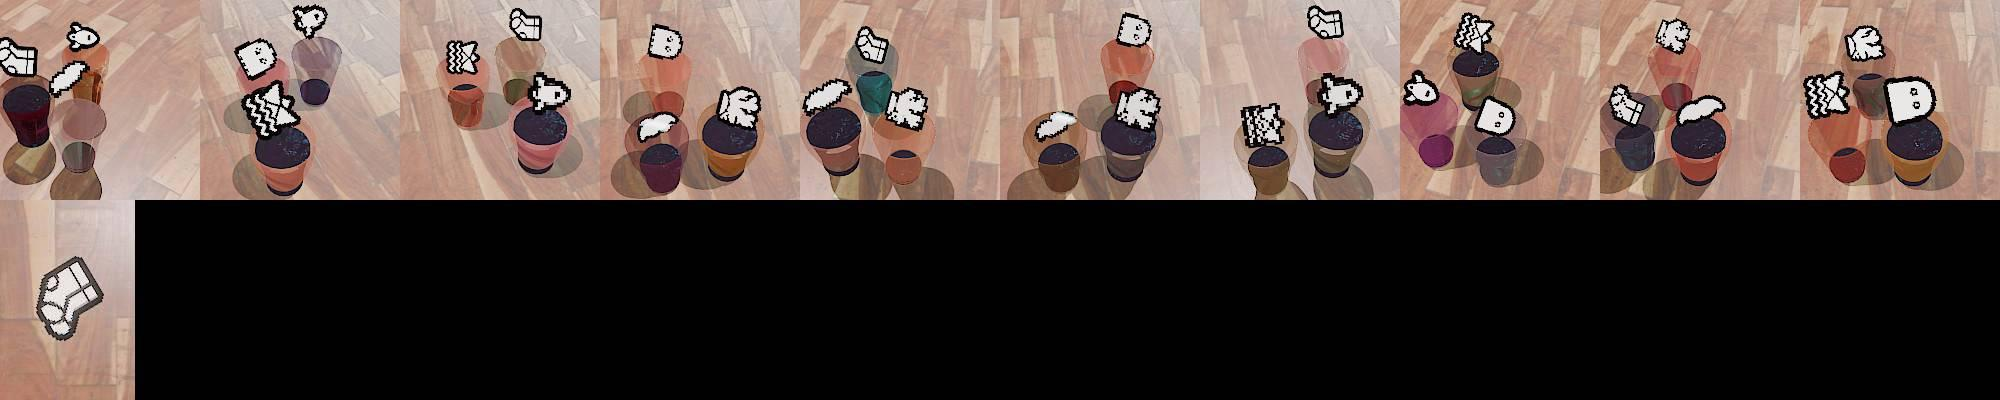icon: (34, 256, 103, 343), (242, 80, 302, 138), (1881, 75, 1937, 126), (1802, 71, 1852, 118), (883, 87, 930, 131), (1114, 85, 1162, 129), (1241, 102, 1287, 146), (716, 85, 761, 129), (1318, 73, 1365, 115), (801, 76, 851, 116), (235, 37, 278, 82), (1453, 10, 1496, 54), (527, 71, 571, 112), (1675, 94, 1728, 127), (1473, 96, 1517, 136), (1608, 83, 1648, 125), (47, 60, 89, 98), (0, 37, 38, 76), (1844, 24, 1884, 61), (1034, 108, 1077, 141), (635, 111, 679, 143), (1404, 69, 1441, 106), (1306, 4, 1344, 39), (853, 25, 889, 64), (1656, 17, 1691, 54), (292, 4, 328, 39), (445, 39, 481, 75), (1116, 11, 1152, 47), (648, 23, 682, 60), (509, 6, 542, 43), (66, 22, 99, 50)
